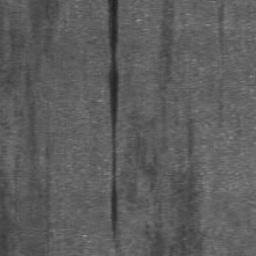Scratches: (108, 0, 119, 238)
